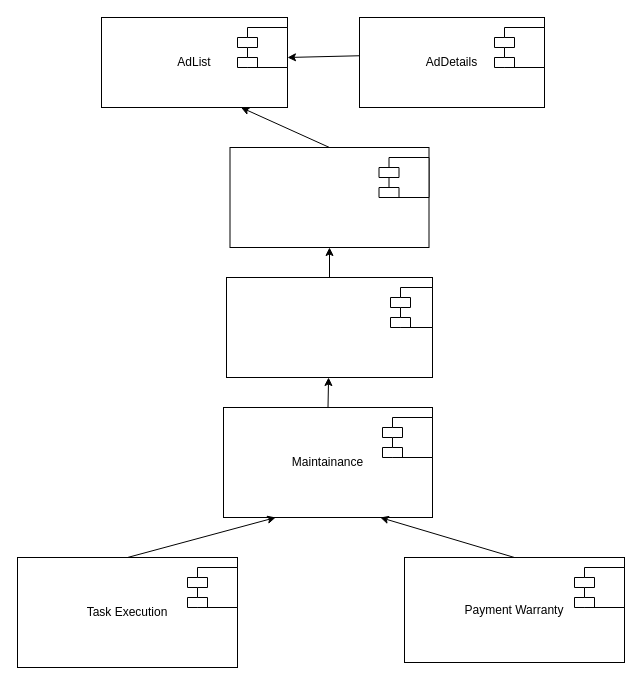
Some shapes in this 642 by 685 pixel diagram are drawn without their labels. The shapes that lost their labels are listed below. From the top down, each one's box as (x1, y1, x2, y2) in pixels, then its label:
(229, 146, 429, 248): Parametrization
(226, 276, 432, 378): Aggrement Execution
